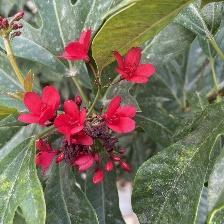jatropha: (20, 85, 63, 131), (111, 47, 157, 84), (105, 94, 139, 136), (56, 100, 89, 140)
